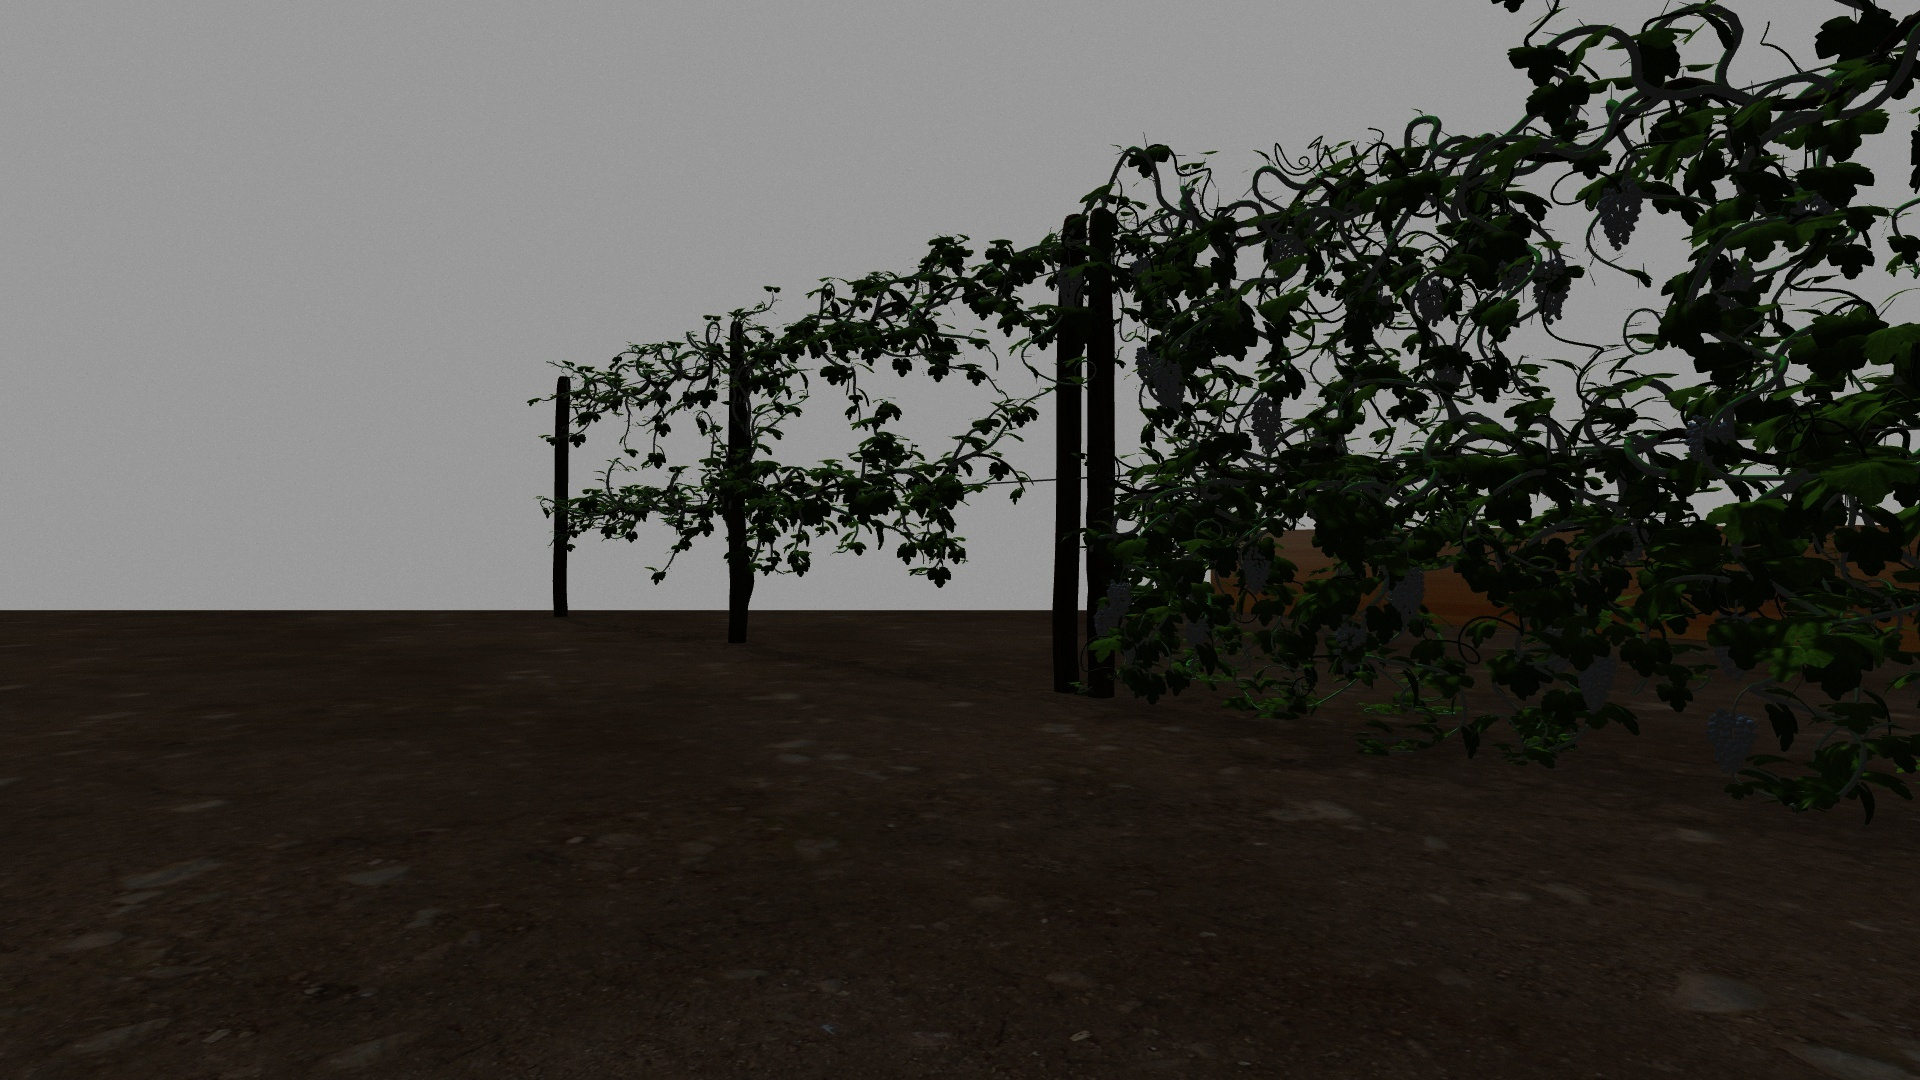grape: (1708, 707, 1760, 773), (1598, 178, 1644, 249), (1576, 647, 1621, 717), (1684, 413, 1737, 469), (1534, 258, 1571, 322), (1389, 567, 1425, 626), (1337, 612, 1367, 675), (1249, 394, 1282, 448), (1154, 360, 1185, 413), (1414, 280, 1451, 324), (1054, 268, 1087, 311), (1135, 345, 1163, 386), (1245, 549, 1270, 589), (1106, 582, 1135, 613), (1093, 607, 1120, 638), (1185, 615, 1211, 647)
